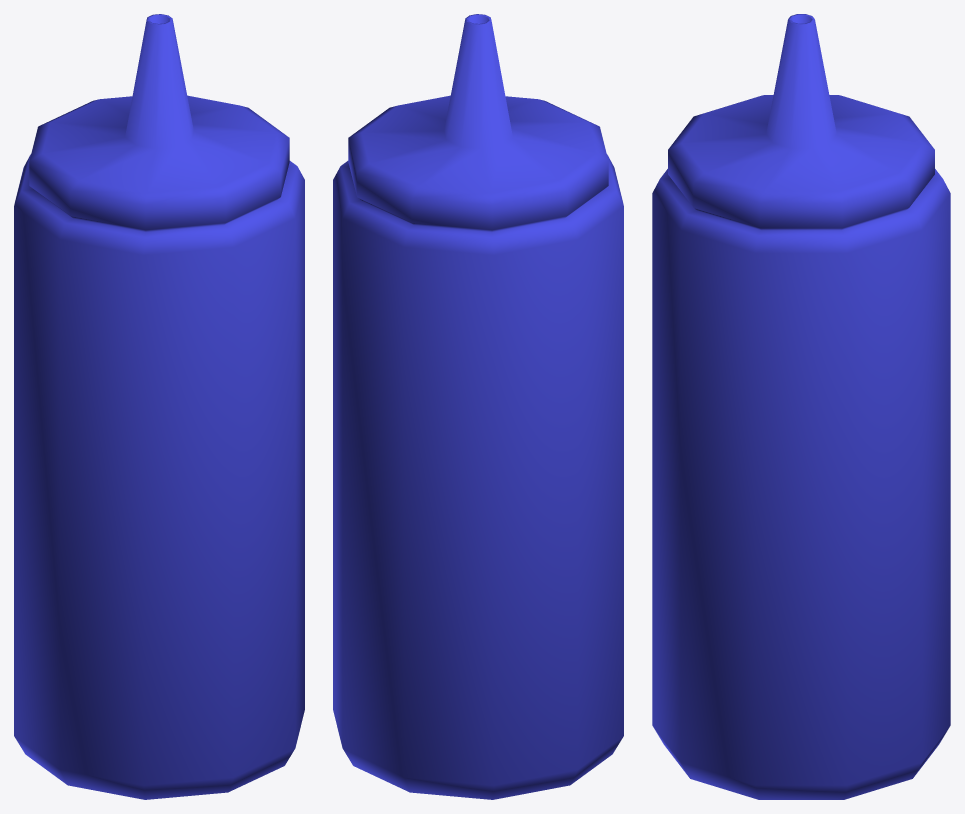
File: Blueberry Bottle.fbx
The picture shows the model from 3 angles, left to right: view 1: azimuth 30°, elevation 25°; view 2: azimuth 150°, elevation 25°; view 3: azimuth 270°, elevation 25°; orthographic projection.
Parts seen in each view (by area): view 1: Blueberry Sauce; view 2: Blueberry Sauce; view 3: Blueberry Sauce.
Part boxes in pixels (x1,y1,x2,y2): Blueberry Sauce: [14, 14, 304, 799]; Blueberry Sauce: [333, 14, 623, 799]; Blueberry Sauce: [652, 14, 950, 799].
Bounding box in the file's own units: 12.98 × 36.6 × 13.65.
